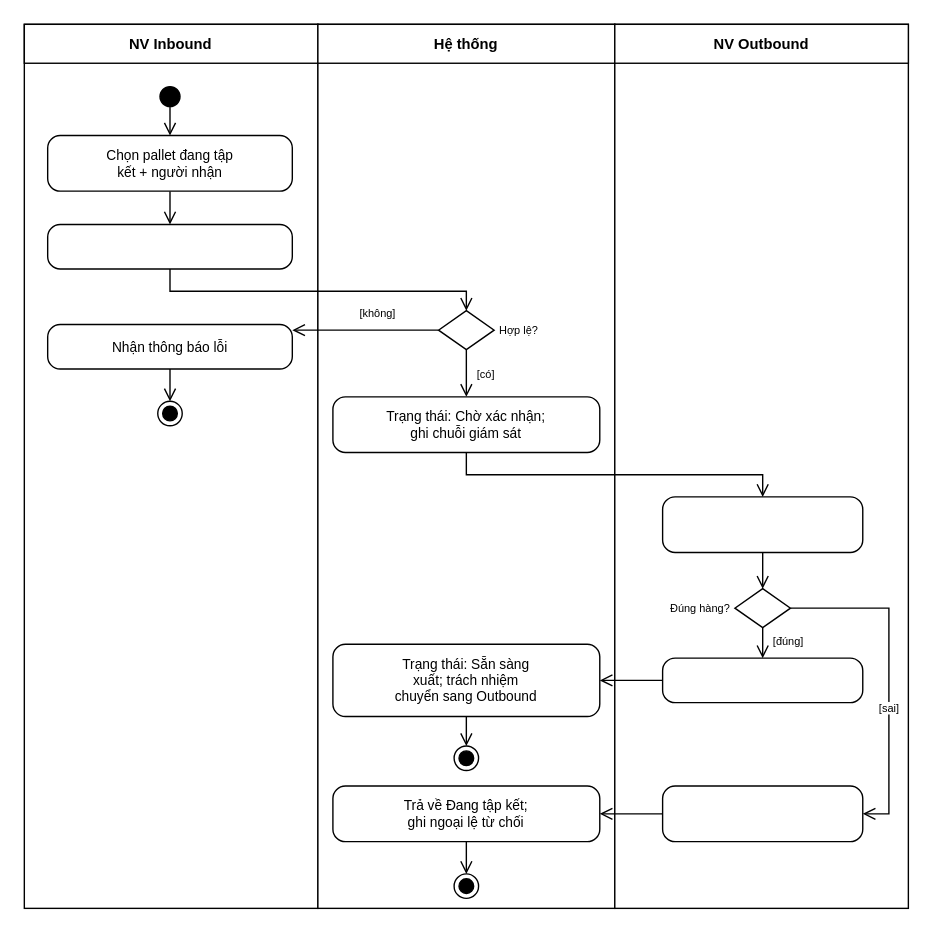
This 933x933 diagram has some shape labels left out. The centre of each missing label's shape, as x and y in pixels:
Bấm Bàn giao: (169,246)
Bấm Nhận: (762,680)
Kiểm đếm pallet thực tế: (762,524)
Nhập lý do, bấm Từ chối: (762,813)
